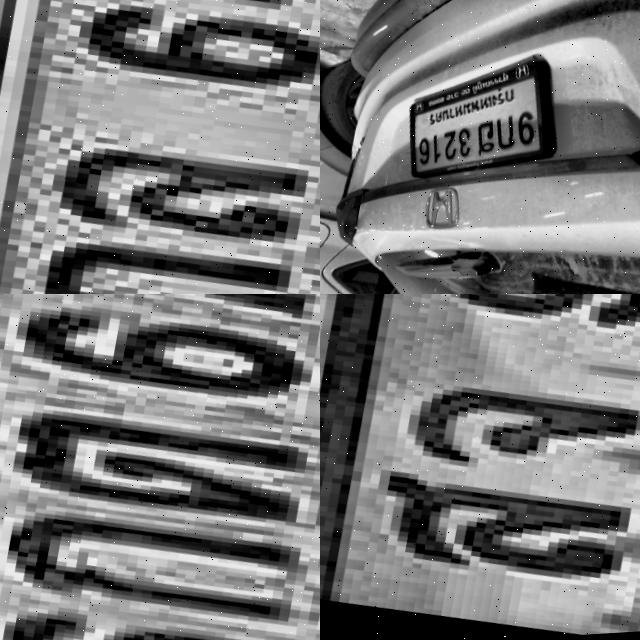license-plate: (0, 294, 320, 640), (320, 294, 640, 640), (0, 0, 320, 294), (496, 205, 624, 294)
